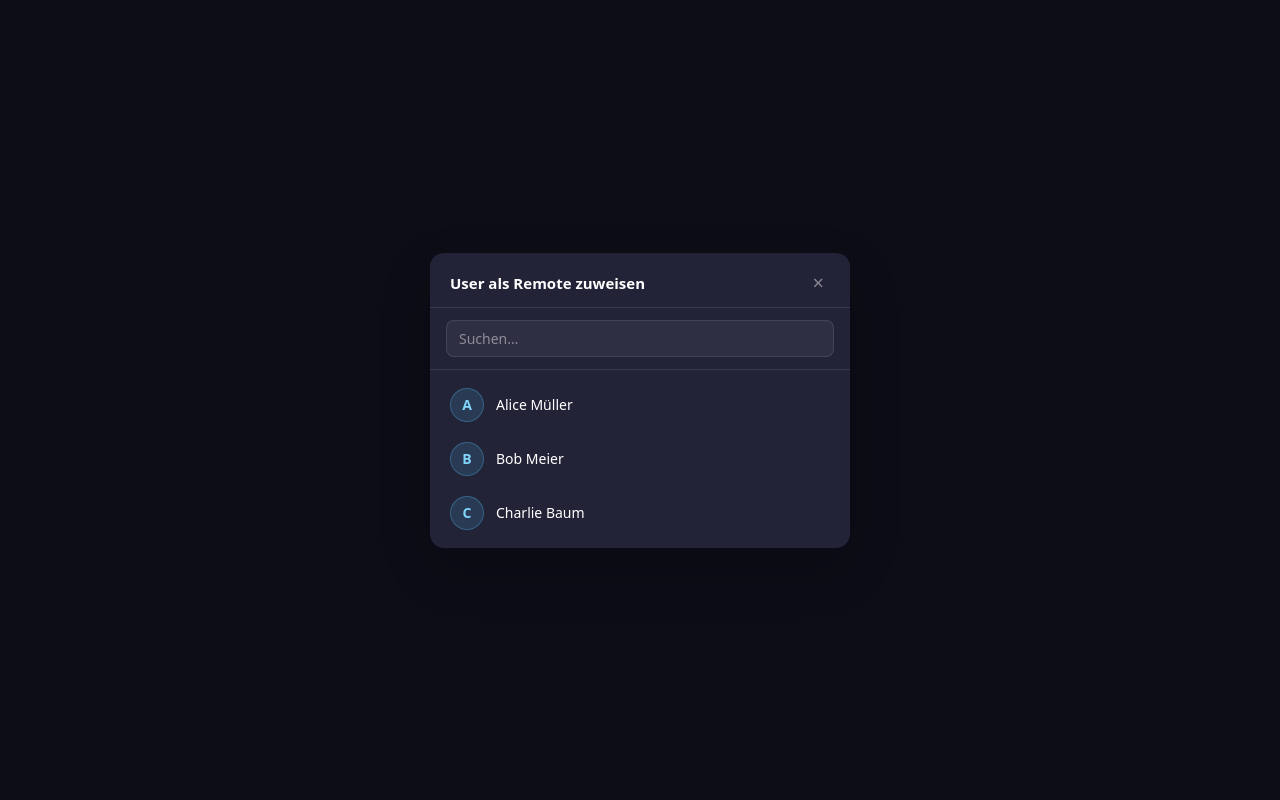
Test: UserSearchModal › shows empty hint when no match
Type "zzz" into the field with placeholder "Suchen…".
click(640, 338); type("zzz")  # box [446, 320, 834, 356]
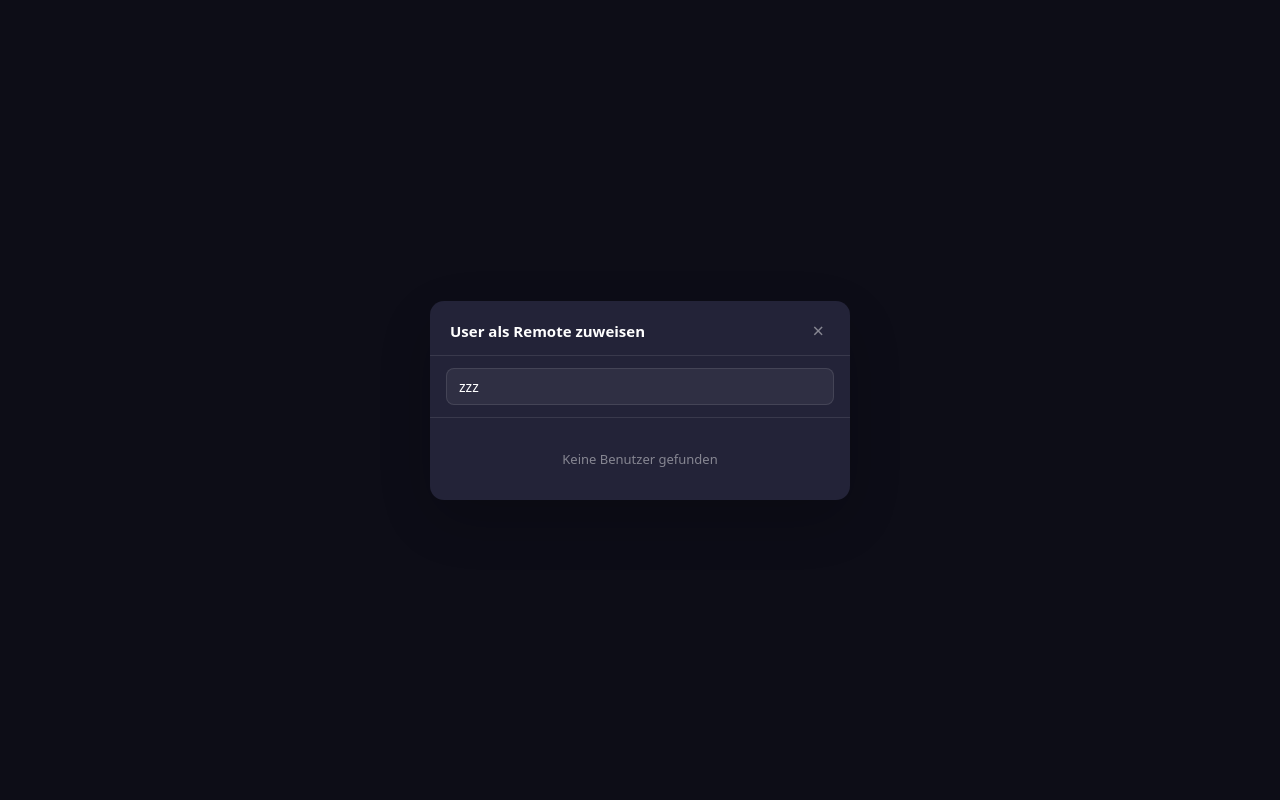
Now no buttons with class "user-row" are shown
Now the text "Keine Benutzer gefunden" is shown, box [562, 450, 718, 468]
